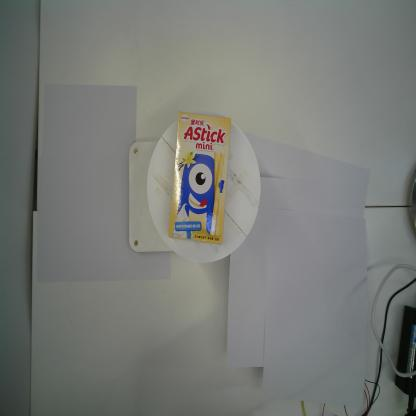Dessert: (168, 110, 232, 244)
